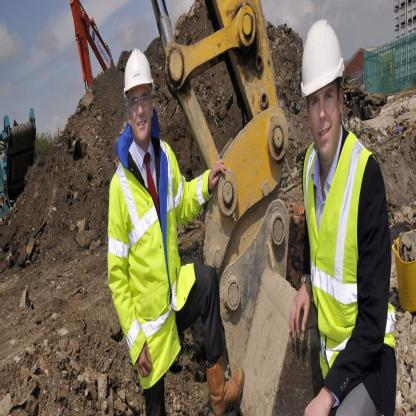person: (101, 44, 245, 416), (293, 17, 398, 415)
